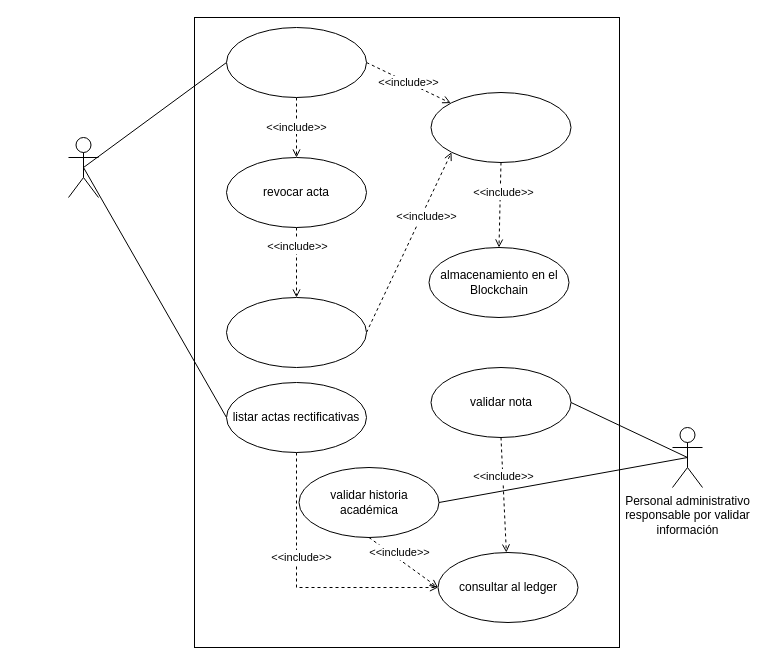
This 767x665 diagram has some shape labels left out. The shapes that lost their labels are listed below. From the top down, each one's centre as x and y in pixels, then its label:
the point at 296,62: cargar acta
the point at 500,127: aplicar función hash
the point at 83,167: personal administrativo responsable por la carga de actas
the point at 296,332: crear acta rectificativa
